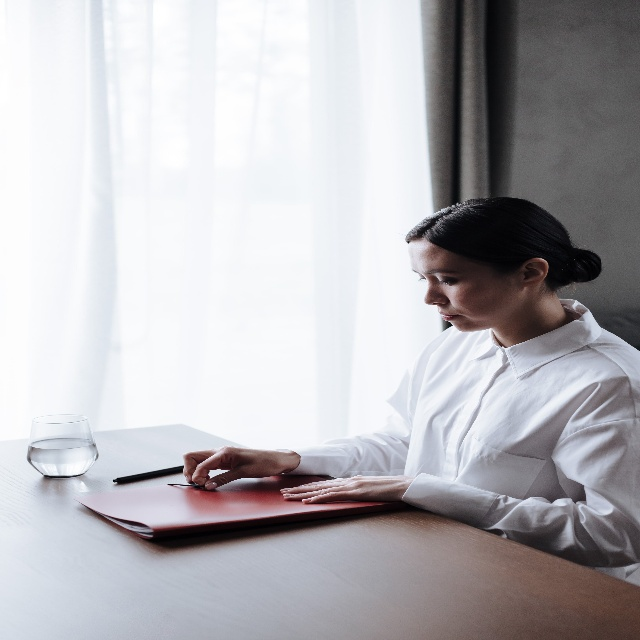Sin_guantes: (180, 440, 298, 493), (278, 470, 409, 504)
